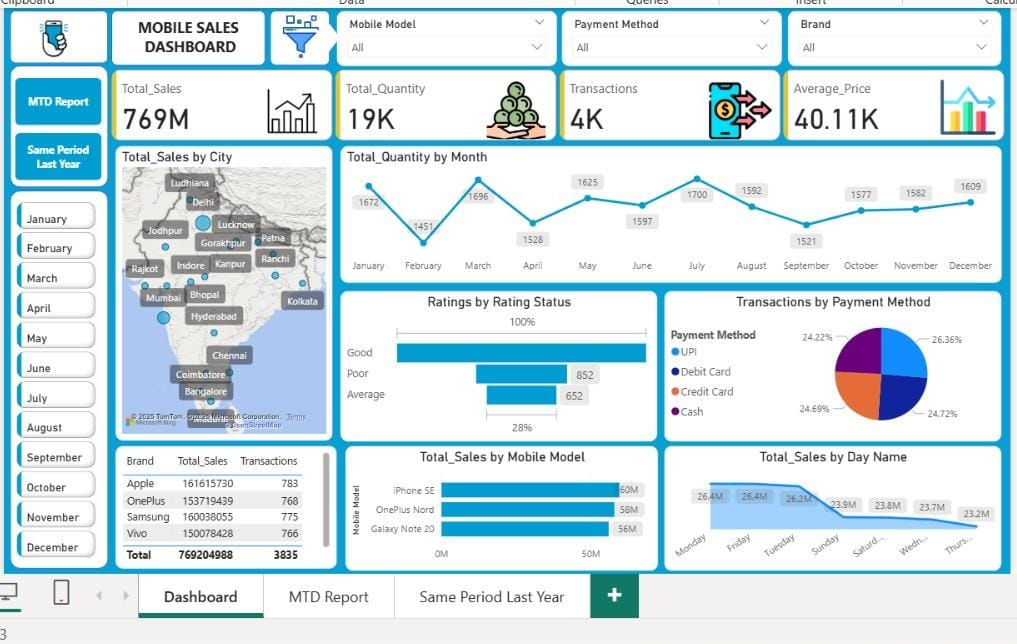

This screenshot's page, from the dashboard's own definition file:
{"tool":"powerbi","page":{"name":"Dashboard","canvas":[1280,720],"ordinal":0},"visuals":[{"type":"shape","box":[7.5,3.8,125,67.5],"z":0},{"type":"image","box":[23.8,3.8,78.8,71.2],"z":1000},{"type":"shape","box":[7.5,73.8,125,155],"z":2000},{"type":"shape","box":[7.5,232.5,125,481.2],"z":3000},{"type":"advancedSlicerVisual","fields":{"Values":["Custom_Calendar.Date.Variation.Date Hierarchy.Month"]},"box":[11.2,241.2,110,472.5],"z":4000},{"type":"cardVisual","fields":{"Data":["Sales_Data.Total_Sales","Sales_Data.Total_Quantity","Sales_Data.Transactions","Sales_Data.Average_Price"]},"box":[132.5,73.8,1147.5,100],"z":5000},{"type":"slicer","fields":{"Values":["Sales_Data.Mobile Model"]},"box":[423.8,3.8,281.2,71.2],"z":6000},{"type":"slicer","fields":{"Values":["Sales_Data.Payment Method"]},"box":[710,3.8,281.2,71.2],"z":7000},{"type":"slicer","fields":{"Values":["Sales_Data.Brand"]},"box":[997.5,3.8,272.5,71.2],"z":8000},{"type":"shape","box":[338.8,3.8,76.2,70],"z":9000},{"type":"image","box":[337.5,3.8,81.2,66.2],"z":10000},{"type":"shape","box":[397.5,17.5,30,40],"z":11000},{"type":"shape","box":[137.5,3.8,196.2,70],"z":12000},{"type":"textbox","box":[156.2,6.2,162.5,63.8],"z":13000},{"type":"map","fields":{"Category":["Sales_Data.City"],"Size":["Sales_Data.Total_Sales"]},"box":[141.2,175,277.5,376.2],"z":14000},{"type":"lineChart","fields":{"Y":["Sales_Data.Total_Quantity"],"Category":["Custom_Calendar.Date.Variation.Date Hierarchy.Month"]},"box":[427.5,175,842.5,175],"z":15000},{"type":"funnel","title":"Ratings by Rating Status","fields":{"Y":["Sum(Sales_Data.Customer Ratings)"],"Category":["Sales_Data.Rating Status"]},"box":[427.5,358.8,403.8,192.5],"z":16000},{"type":"pieChart","fields":{"Y":["Sales_Data.Transactions"],"Category":["Sales_Data.Payment Method"]},"box":[840,358.8,430,192.5],"z":17000},{"type":"clusteredBarChart","fields":{"Y":["Sales_Data.Total_Sales"],"Category":["Sales_Data.Mobile Model"]},"box":[433.8,556.2,398.8,160],"z":18000},{"type":"areaChart","fields":{"Y":["Sales_Data.Total_Sales"],"Category":["Custom_Calendar.Day Name"]},"box":[840,556.2,430,160],"z":19000},{"type":"tableEx","fields":{"Values":["Sales_Data.Brand","Sales_Data.Total_Sales","Sales_Data.Transactions"]},"box":[141.2,556.2,282.5,157.5],"z":20000},{"type":"pageNavigator","box":[15,88.8,110,130],"z":21000}]}

Visuals, with their boxes in screenshot pixels (x1, y1, x2, y2):
shape: crop(9, 8, 106, 61)
image: crop(21, 8, 83, 64)
shape: crop(9, 63, 106, 185)
shape: crop(9, 187, 106, 565)
advancedSlicerVisual - Custom_Calendar.Date.Variation.Date Hierarchy.Month: crop(11, 194, 98, 565)
cardVisual - Sales_Data.Total_Sales x Sales_Data.Total_Quantity: crop(106, 63, 1006, 141)
slicer - Sales_Data.Mobile Model: crop(335, 8, 555, 64)
slicer - Sales_Data.Payment Method: crop(559, 8, 779, 64)
slicer - Sales_Data.Brand: crop(784, 8, 998, 64)
shape: crop(268, 8, 328, 63)
image: crop(267, 8, 331, 60)
shape: crop(314, 19, 338, 50)
shape: crop(110, 8, 264, 63)
textbox: crop(125, 10, 252, 60)
map - Sales_Data.City x Sales_Data.Total_Sales: crop(113, 142, 331, 437)
lineChart - Sales_Data.Total_Quantity x Custom_Calendar.Date.Variation.Date Hierarchy.Month: crop(338, 142, 998, 280)
"Ratings by Rating Status" funnel: crop(338, 286, 654, 437)
pieChart - Sales_Data.Transactions x Sales_Data.Payment Method: crop(661, 286, 998, 437)
clusteredBarChart - Sales_Data.Total_Sales x Sales_Data.Mobile Model: crop(343, 441, 655, 566)
areaChart - Sales_Data.Total_Sales x Custom_Calendar.Day Name: crop(661, 441, 998, 566)
tableEx - Sales_Data.Brand x Sales_Data.Total_Sales: crop(113, 441, 335, 565)
pageNavigator: crop(14, 75, 101, 177)
